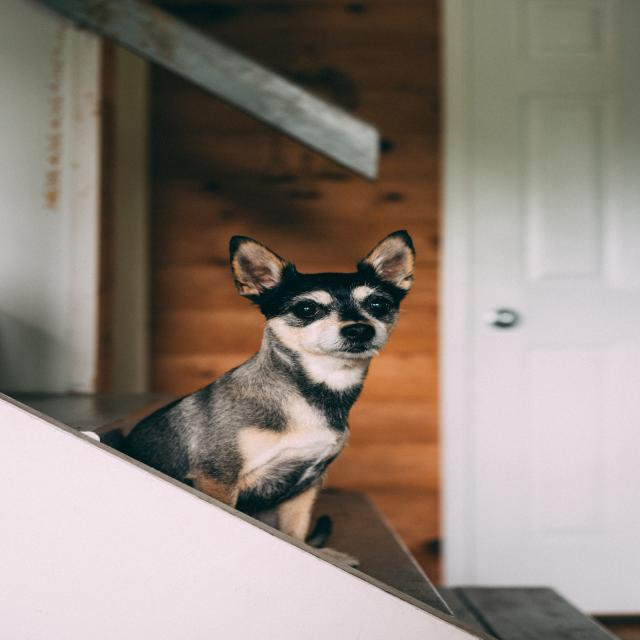dogs: (106, 229, 420, 550)
